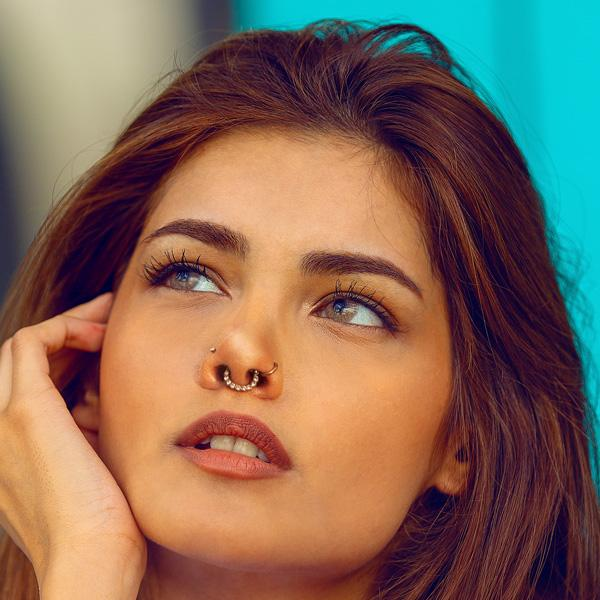Eyes: (289, 276, 409, 342), (138, 246, 232, 304)
